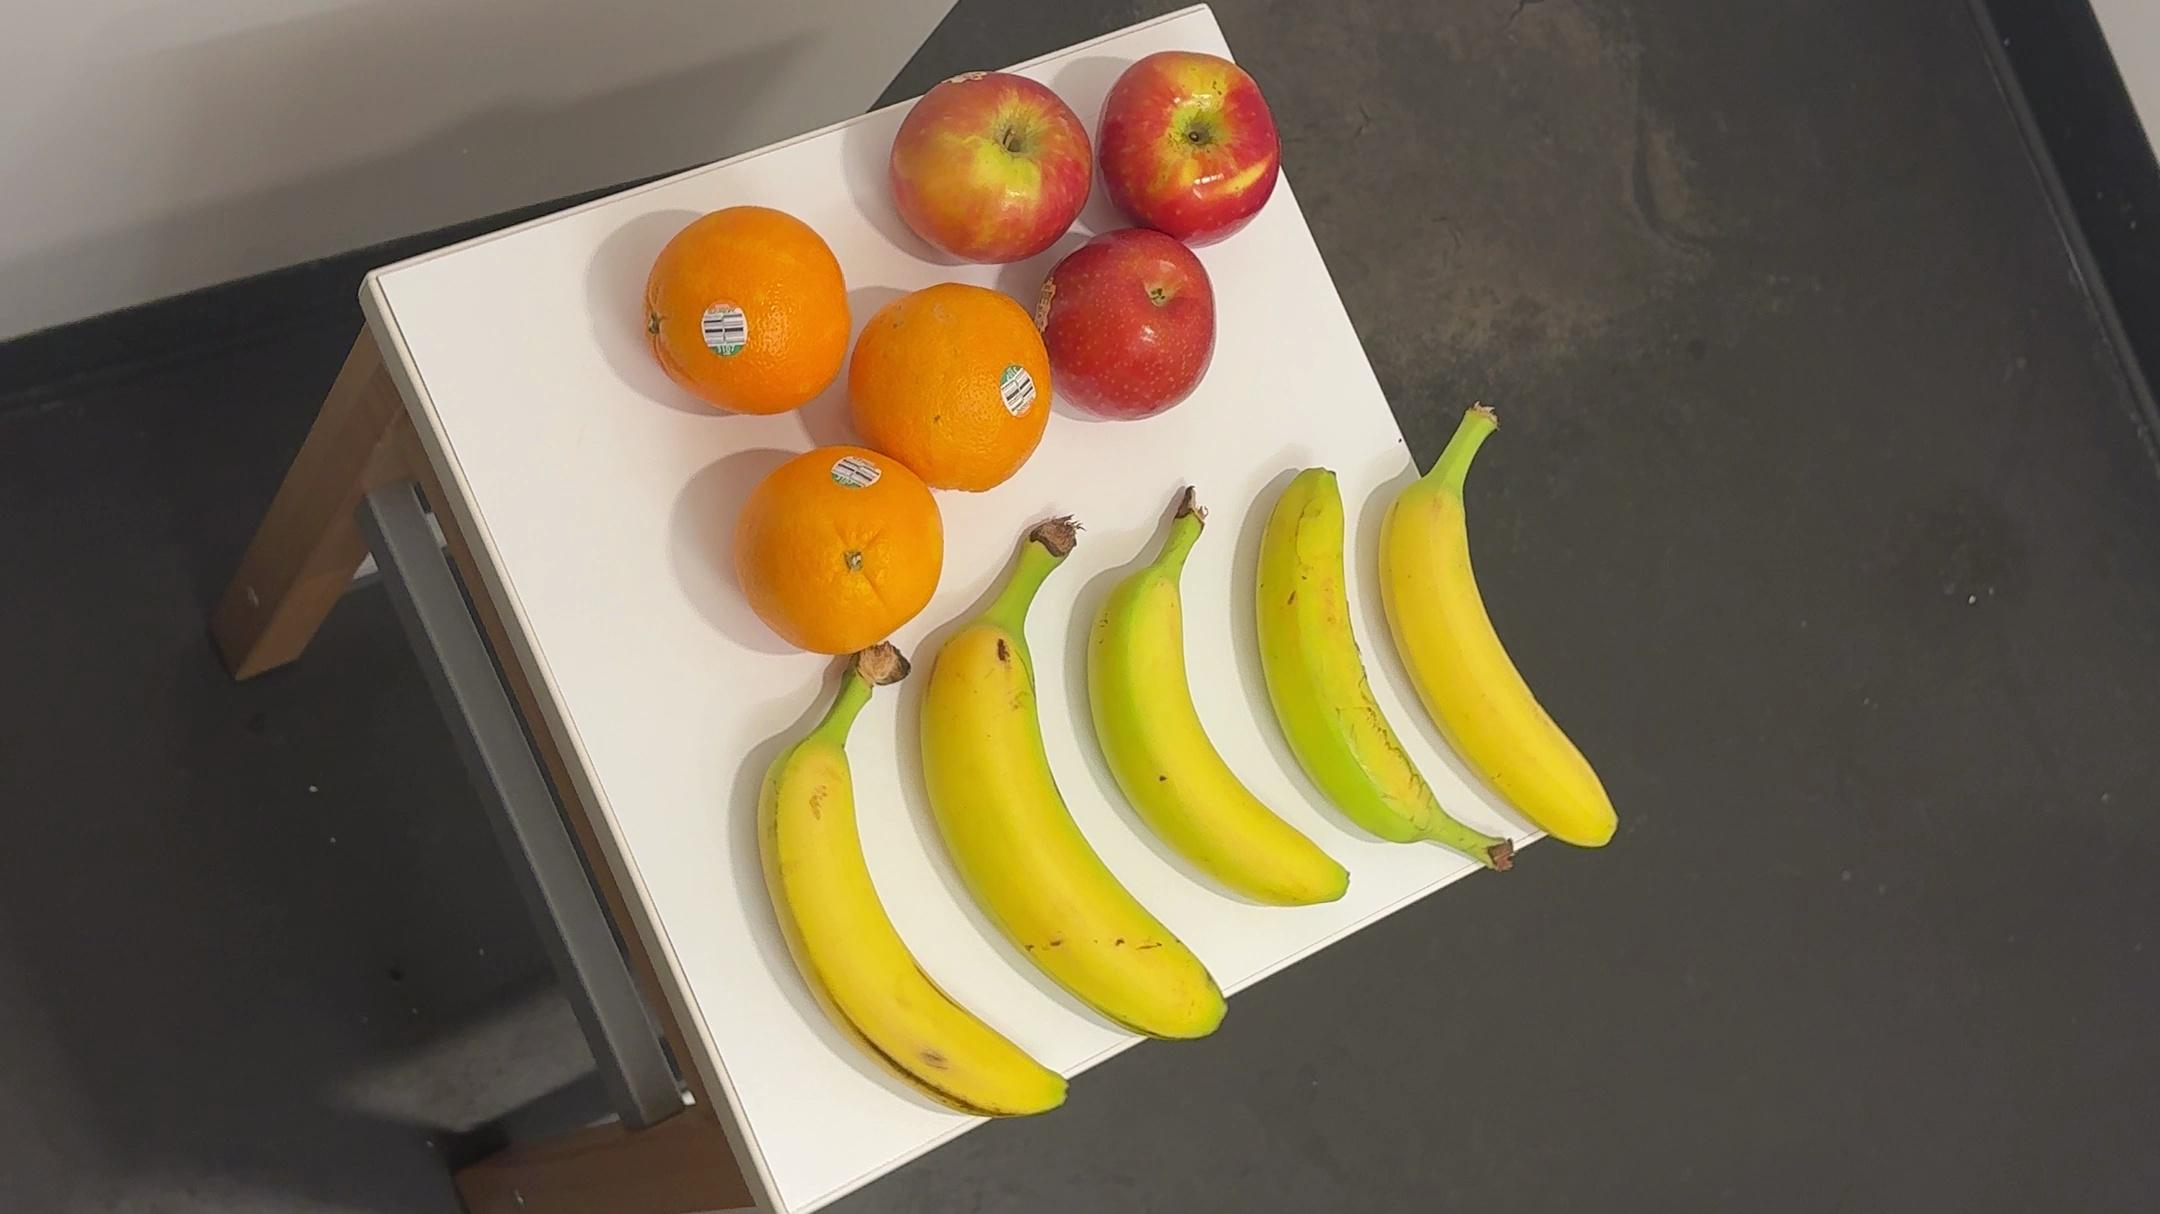apple: (886, 67, 1098, 269), (1095, 49, 1291, 248), (1043, 237, 1228, 421)
banana: (892, 522, 1237, 1058), (722, 643, 1086, 1143), (1359, 401, 1642, 861), (1077, 473, 1356, 922), (1239, 463, 1518, 887)
orange: (720, 445, 946, 660), (841, 279, 1059, 502), (639, 203, 849, 417)
